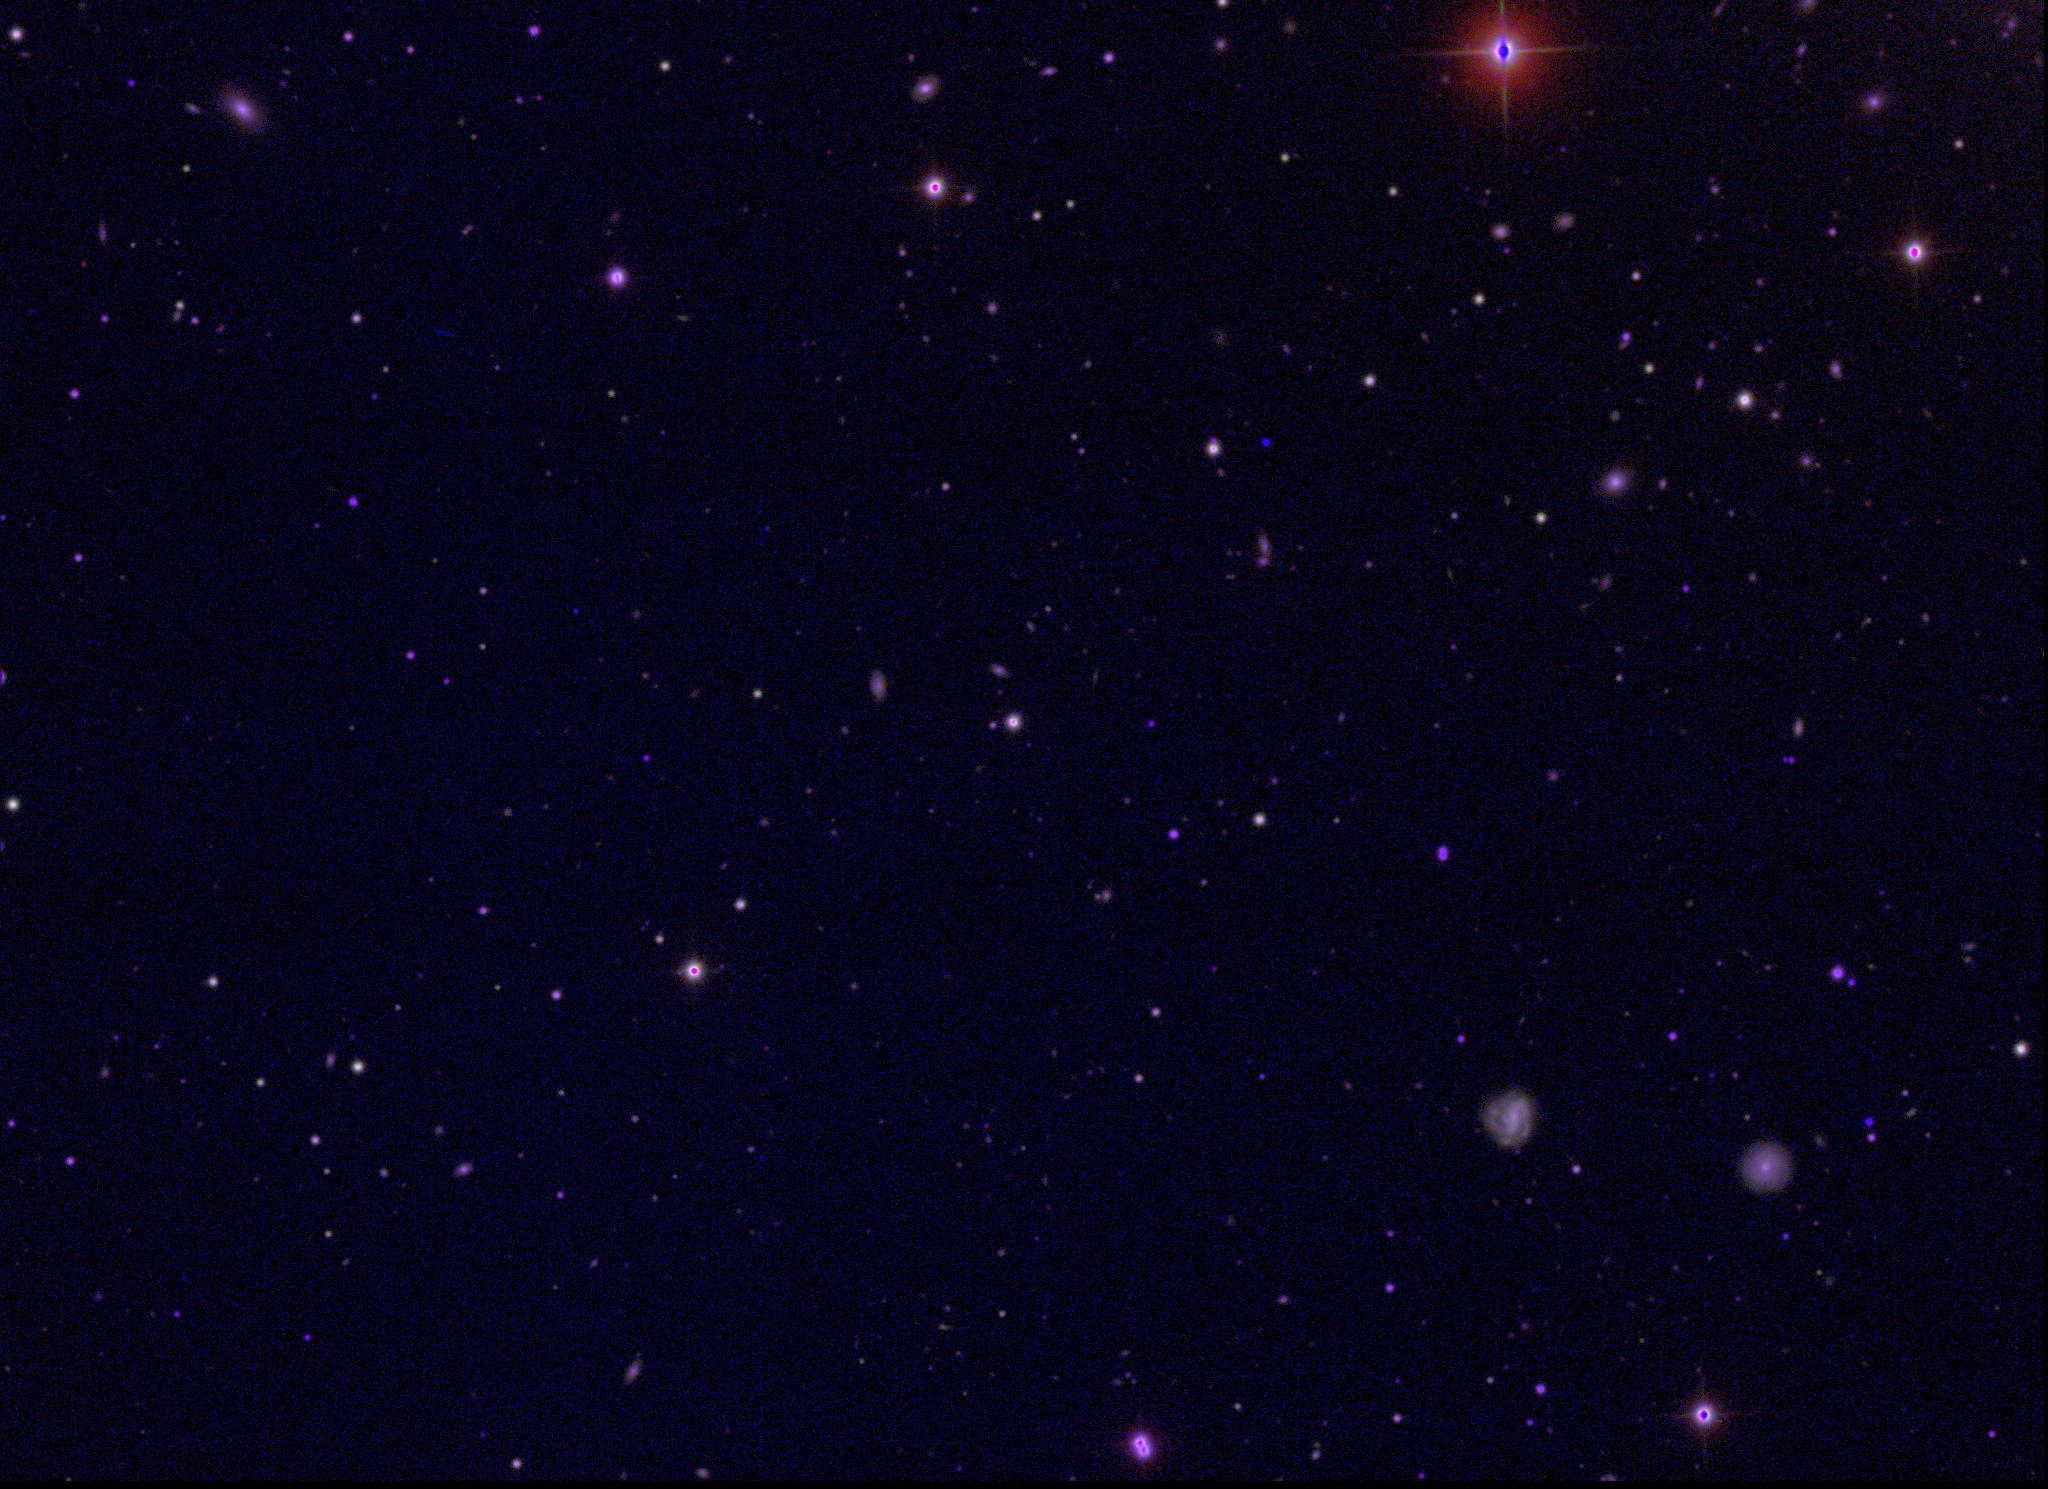L: (1259, 436, 1274, 450)
